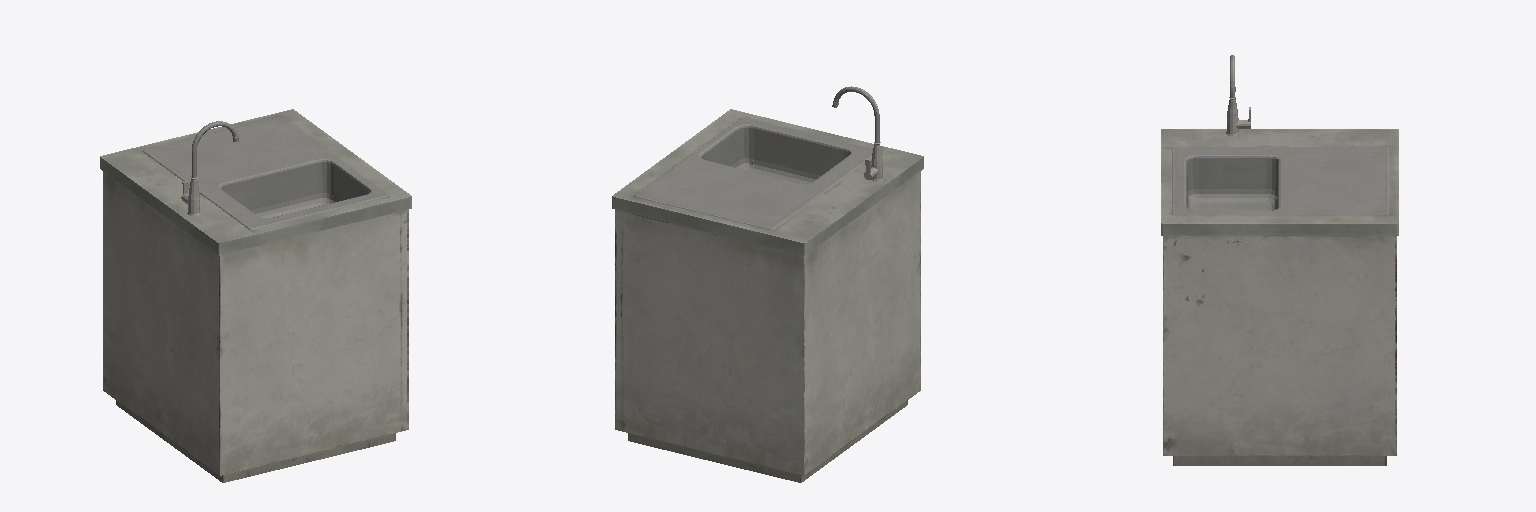
3 renders of one model, left to right at view 1: azimuth 30°, elevation 25°; view 2: azimuth 150°, elevation 25°; view 3: azimuth 270°, elevation 25°, orthographic.
Visible parts, largest first — view 1: body_low_meshId3_name_body_low_meshId3_name_low, sink_low_meshId2_name_sink_low_meshId2_name_low, tap_low_meshId1_name_tap_low_meshId1_name_low; view 2: body_low_meshId3_name_body_low_meshId3_name_low, sink_low_meshId2_name_sink_low_meshId2_name_low, tap_low_meshId1_name_tap_low_meshId1_name_low; view 3: body_low_meshId3_name_body_low_meshId3_name_low, sink_low_meshId2_name_sink_low_meshId2_name_low, tap_low_meshId1_name_tap_low_meshId1_name_low.
Part boxes in pixels (x1,y1,x2,y2): body_low_meshId3_name_body_low_meshId3_name_low: (100, 109, 411, 482); sink_low_meshId2_name_sink_low_meshId2_name_low: (143, 117, 388, 229); tap_low_meshId1_name_tap_low_meshId1_name_low: (181, 121, 238, 215); body_low_meshId3_name_body_low_meshId3_name_low: (612, 109, 923, 482); sink_low_meshId2_name_sink_low_meshId2_name_low: (634, 117, 872, 230); tap_low_meshId1_name_tap_low_meshId1_name_low: (832, 86, 883, 181); body_low_meshId3_name_body_low_meshId3_name_low: (1161, 129, 1398, 465); sink_low_meshId2_name_sink_low_meshId2_name_low: (1172, 147, 1388, 214); tap_low_meshId1_name_tap_low_meshId1_name_low: (1226, 55, 1250, 135).
Size of the model in its own units: 0.9232 by 1.52 by 0.9851.
Materials: 1 (1 with a texture image).